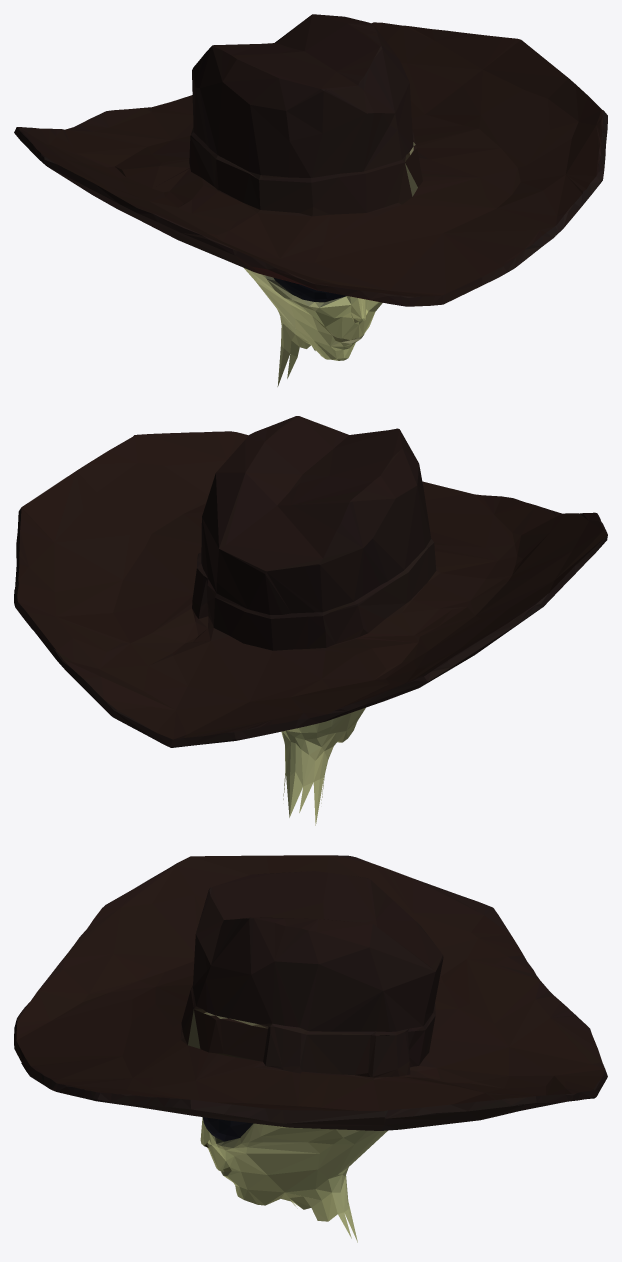
Rendered from zeke-head.glb.
The picture shows the model from 3 angles, top to bottom: view 1: azimuth 30°, elevation 25°; view 2: azimuth 150°, elevation 25°; view 3: azimuth 270°, elevation 25°; orthographic projection.
Parts seen in each view (by area): view 1: hat, face, eyes; view 2: hat, face; view 3: hat, face, eyes.
Part boxes in pixels (x1,y1,x2,y2): hat: [14, 14, 607, 306]; face: [244, 268, 382, 386]; eyes: [273, 277, 346, 302]; hat: [14, 416, 607, 747]; face: [281, 707, 365, 825]; hat: [14, 855, 607, 1130]; face: [200, 1117, 387, 1242]; eyes: [202, 1117, 253, 1141].
Size of the model in its own units: 0.5781 by 0.3978 by 0.5954.
